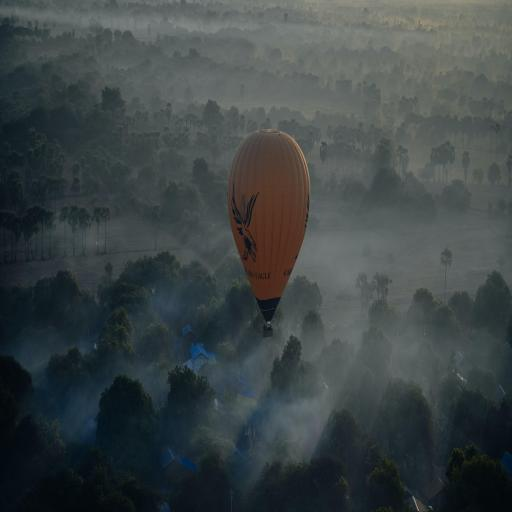hot air ballon: (227, 130, 310, 338)
